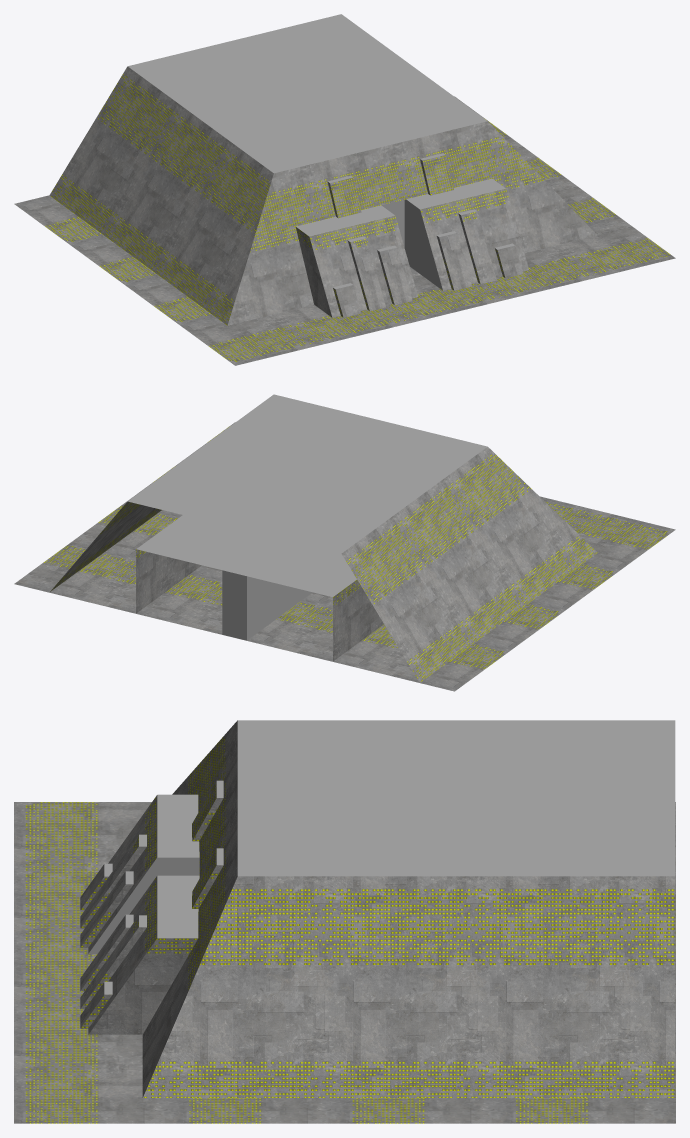
Rendered from SM_MegaBuilding.fbx.
3 views of the same model, one above another, from view 1: azimuth 30°, elevation 25°; view 2: azimuth 150°, elevation 25°; view 3: azimuth 270°, elevation 25° (orthographic). The views are drawn at different scales.
Parts seen in each view (by area): view 1: SM_MegaBuilding, SM_MegaBuilding_Roof, SM_Ground; view 2: SM_MegaBuilding_Roof, SM_MegaBuilding, SM_Ground, SM_MegaBuilding_Roof2; view 3: SM_MegaBuilding, SM_MegaBuilding_Roof, SM_Ground.
Part boxes in pixels (x1=…): SM_MegaBuilding: x1=49, y1=66, x2=597, y2=325; SM_MegaBuilding_Roof: x1=128, y1=14, x2=523, y2=317; SM_Ground: x1=14, y1=96, x2=675, y2=365; SM_MegaBuilding_Roof: x1=128, y1=394, x2=487, y2=640; SM_MegaBuilding: x1=49, y1=447, x2=597, y2=682; SM_Ground: x1=14, y1=422, x2=675, y2=691; SM_MegaBuilding_Roof2: x1=222, y1=536, x2=292, y2=640; SM_MegaBuilding: x1=88, y1=720, x2=675, y2=1097; SM_MegaBuilding_Roof: x1=80, y1=720, x2=675, y2=1028; SM_Ground: x1=14, y1=802, x2=675, y2=1123.
Size of the model in its own units: 5.6 by 1.34 by 4.87.
